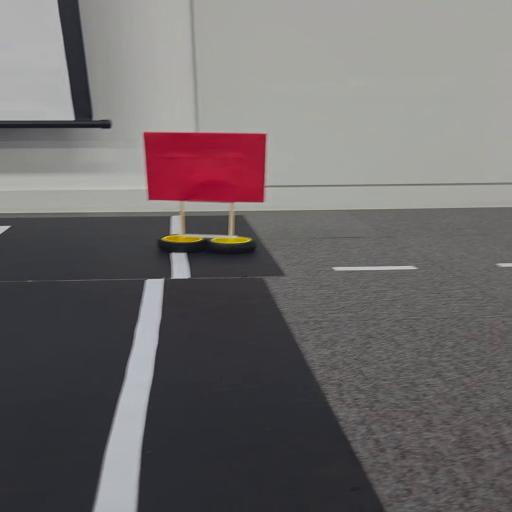Sign_A: (137, 126, 280, 260)
